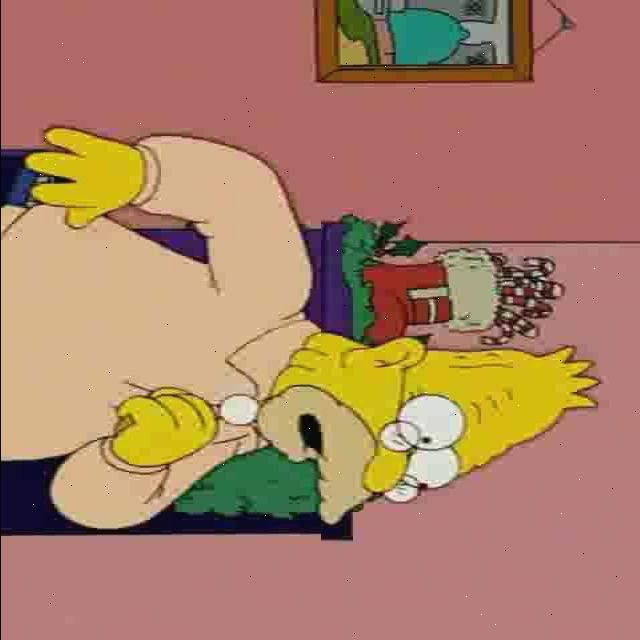Abraham Grampa Simpson: (248, 330, 602, 528)
